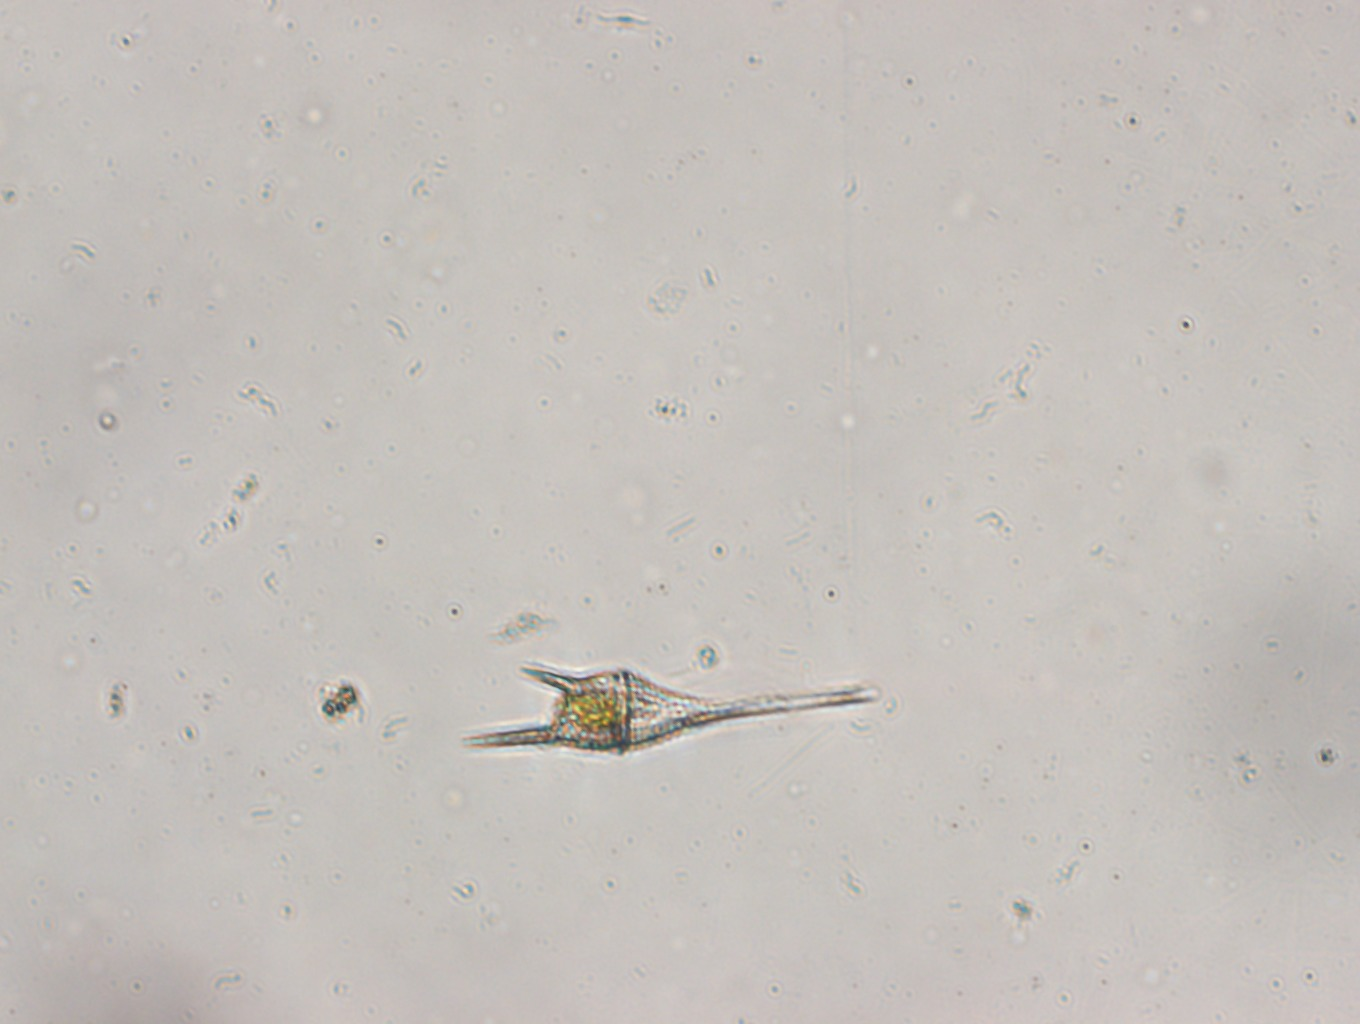ceratium furca: (450, 649, 883, 767)
